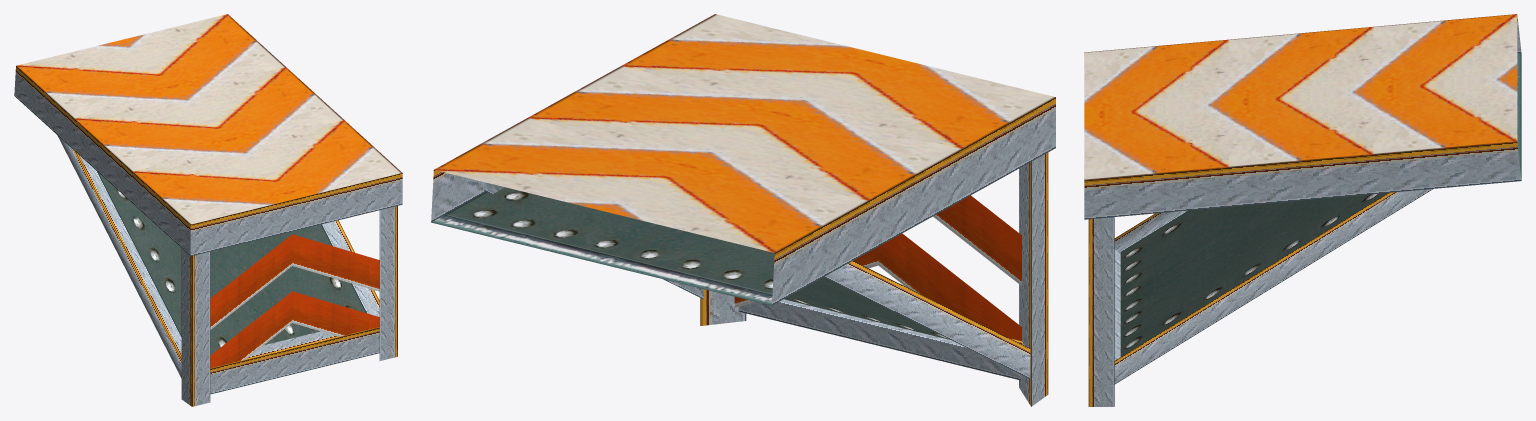
File: TJUMPDAI.obj
3 renders of one model, left to right at view 1: azimuth 30°, elevation 25°; view 2: azimuth 150°, elevation 25°; view 3: azimuth 270°, elevation 25°, orthographic. The views are drawn at different scales.
Size of the model in its own units: 35 by 34 by 50.49.
Materials: 4 (4 with a texture image).
